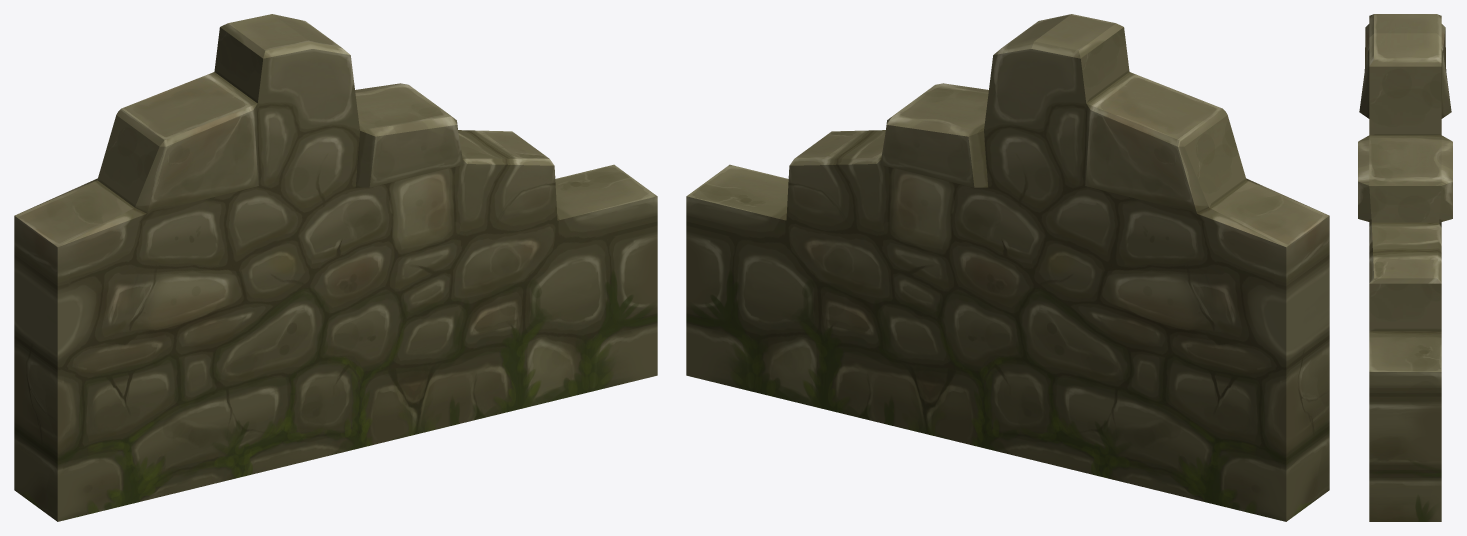
File: Wall_1.FBX
3 views of the same model, side by side, from view 1: azimuth 30°, elevation 25°; view 2: azimuth 150°, elevation 25°; view 3: azimuth 270°, elevation 25° (orthographic). The views are drawn at different scales.
Parts seen in each view (by area): view 1: Wall_1; view 2: Wall_1; view 3: Wall_1.
Boxes of the visible parts, left/top/right/bottom form: Wall_1: left=14, top=14, right=657, bottom=521; Wall_1: left=686, top=14, right=1329, bottom=521; Wall_1: left=1358, top=14, right=1452, bottom=521.
Size of the model in its own units: 2000 by 1331 by 327.
